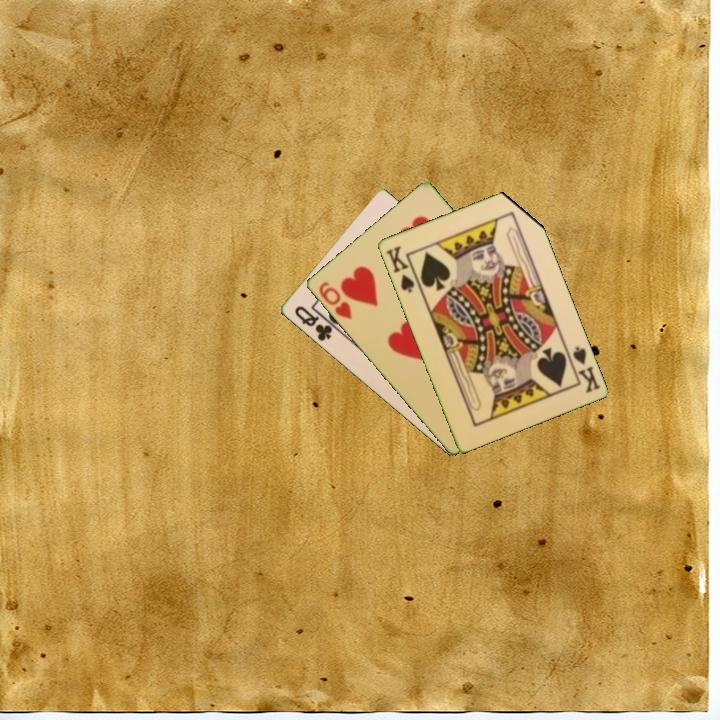6h: (315, 278, 355, 322)
Ks: (563, 342, 603, 396), (381, 242, 421, 295)
Qc: (290, 302, 340, 344)
